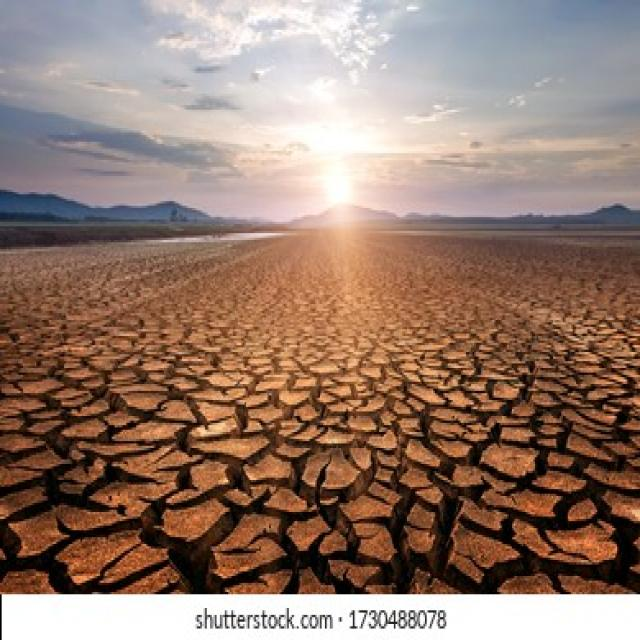Clay Soil: (43, 288, 601, 566)
